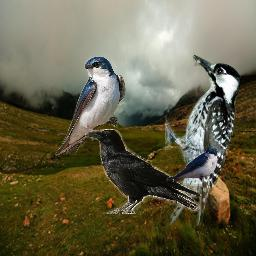Crow: (85, 129, 201, 214)
Swallow: (55, 55, 126, 156), (166, 146, 218, 182)
Woodpecker: (165, 53, 241, 227)
